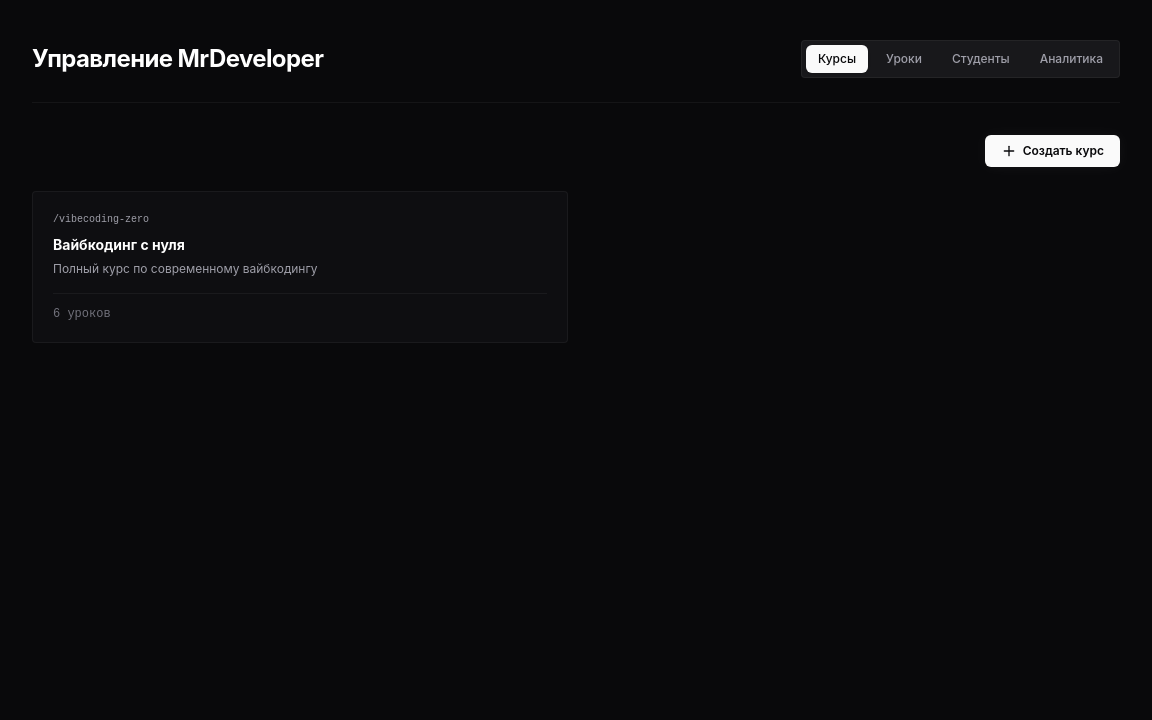
it: Admin Suite E2E Workflows (Frontend) › Tier 1: Renders main admin shell and switches between tabs seamlessly
Check: the heading "Управление MrDeveloper" is shown, box 32,43 -> 323,75
Check: the heading "Вайбкодинг с нуля" is shown, box 53,236 -> 185,253
Switch to Lessons tab
Click the button "Уроки": (904, 59) 874,45 -> 934,73
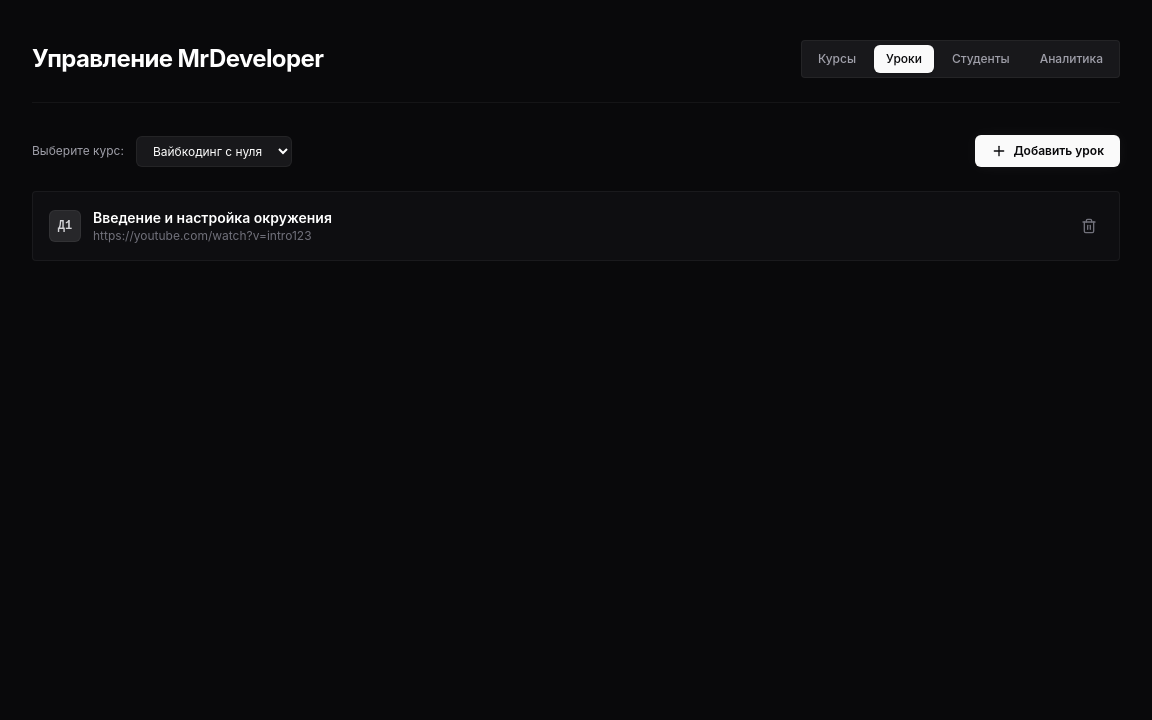
Check: the heading "Введение и настройка окружения" is shown, box 93,208 -> 332,228
Check: the text "Д1" is shown, box 49,210 -> 81,242
Switch to Students tab
Click the button "Студенты": (981, 59) 940,45 -> 1022,73
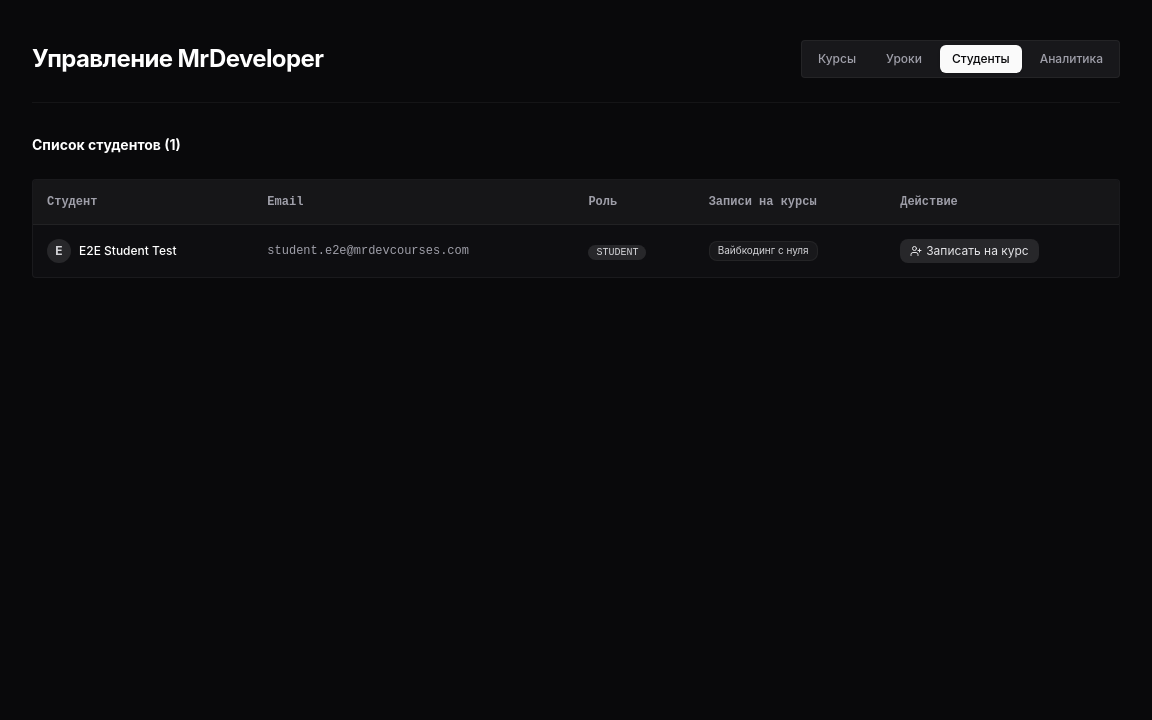
Check: the text "student.e2e@mrdevcourses.com" is shown, box 253,224 -> 574,277
Check: the text "E2E Student Test" is shown, box 79,243 -> 177,259
Switch to Analytics tab
Click the button "Аналитика": (1071, 59) 1028,45 -> 1115,73
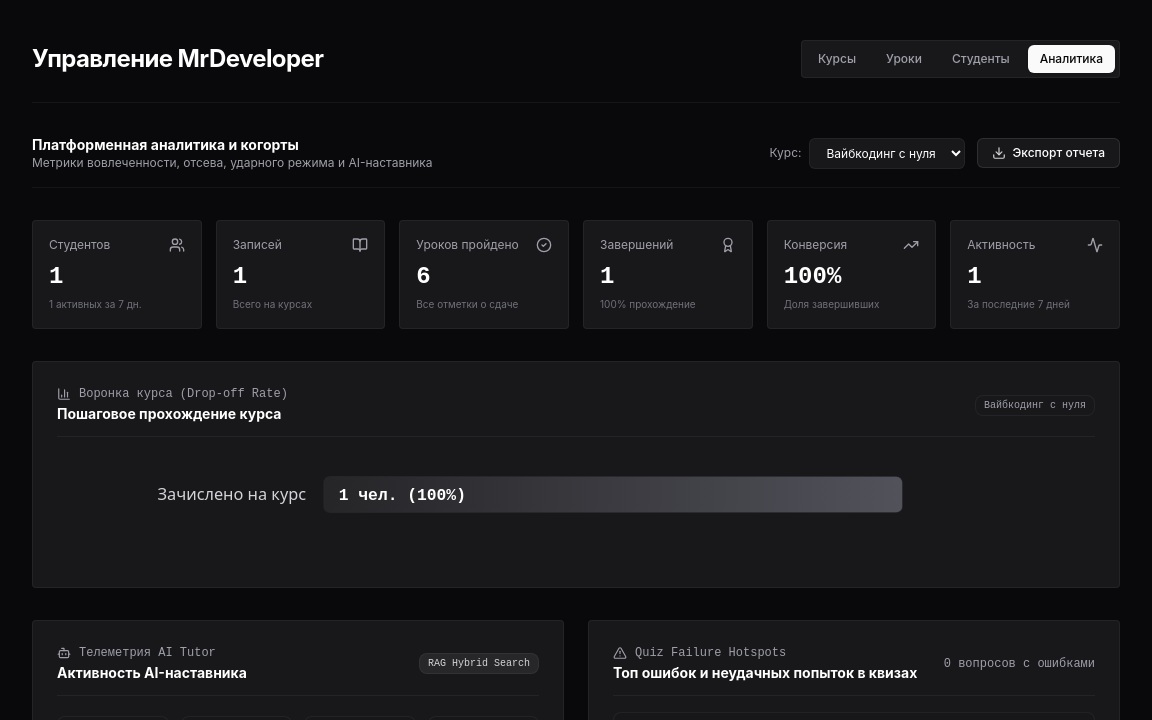
Check: the heading "Платформенная аналитика и когорты" is shown, box 32,136 -> 299,153
Check: the text "100%" is shown, box 784,263 -> 841,290
